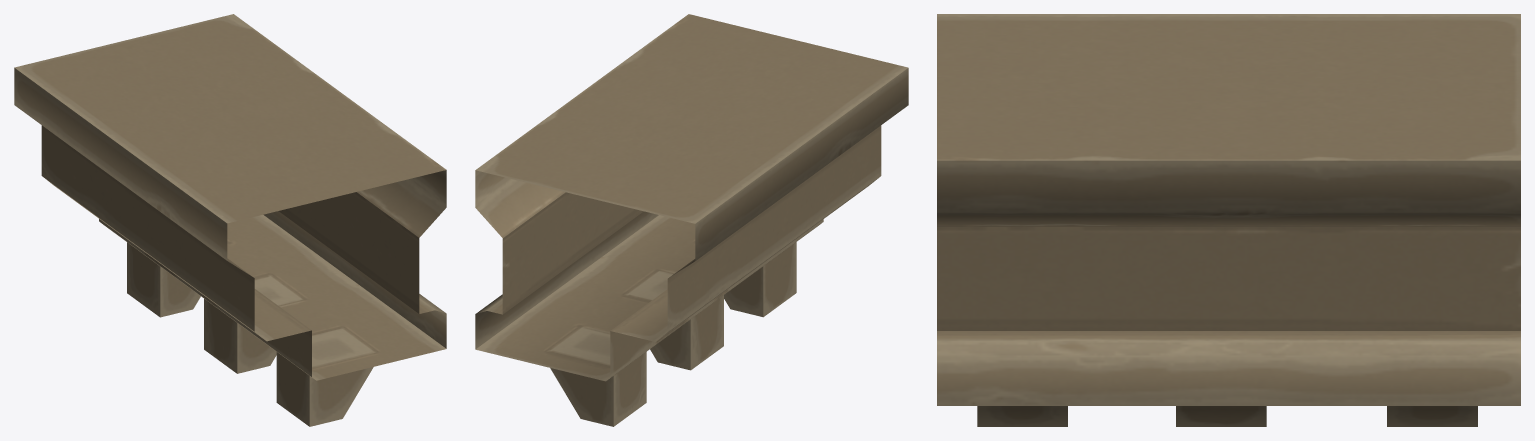
Rendered from ARC0510057.fbx.
3 views of the same model, side by side, from view 1: azimuth 30°, elevation 25°; view 2: azimuth 150°, elevation 25°; view 3: azimuth 270°, elevation 25° (orthographic). The views are drawn at different scales.
Visible parts, largest first — view 1: smARC0510057; view 2: smARC0510057; view 3: smARC0510057.
Part boxes in pixels (x1=…): smARC0510057: x1=14, y1=14, x2=446, y2=426; smARC0510057: x1=475, y1=14, x2=908, y2=426; smARC0510057: x1=937, y1=14, x2=1520, y2=426.
Bounding box in the file's own units: 89.23 × 92.42 × 150.
Materials: 1 (1 with a texture image).
